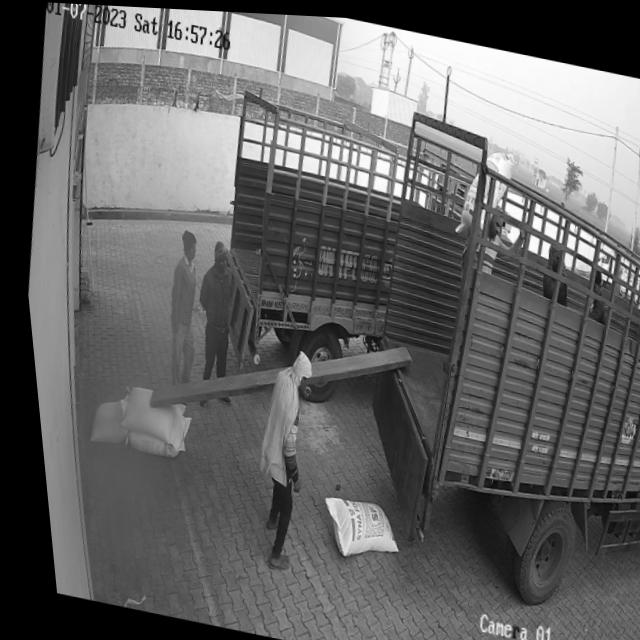sack: (306, 489, 396, 564), (108, 382, 181, 443), (113, 404, 186, 458), (76, 390, 127, 448)
